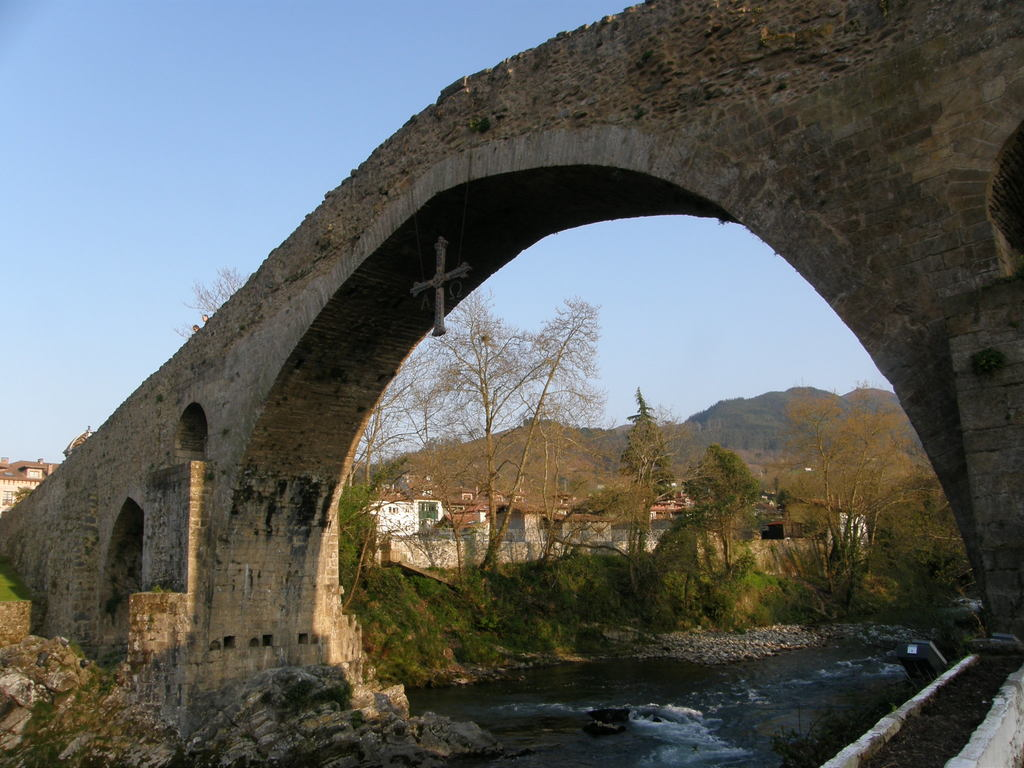Tree: (174, 263, 982, 612)
